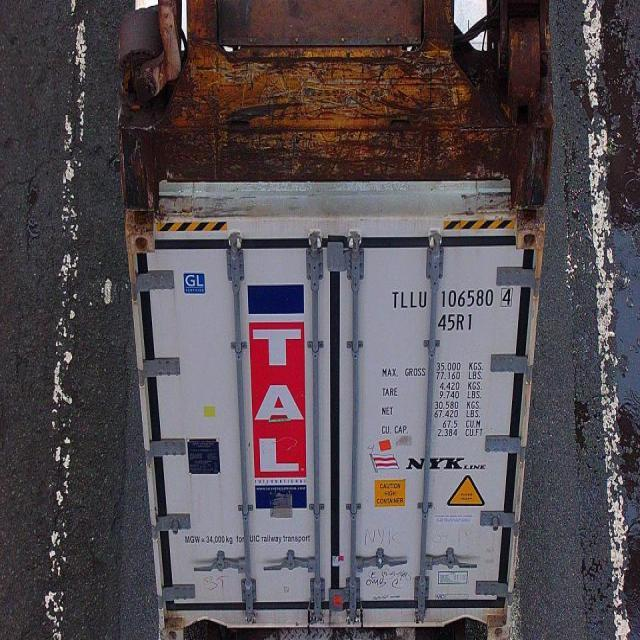ISO: (437, 311, 475, 332)
container_number: (390, 289, 514, 311)
